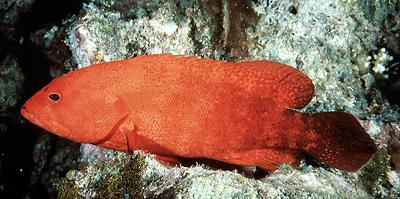Serranidae -Groupers-: (14, 51, 381, 185)
